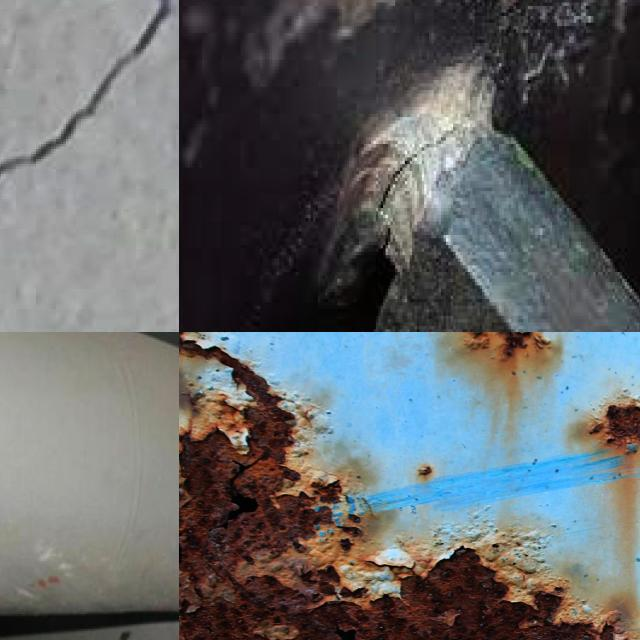Crack: (0, 0, 168, 174), (352, 63, 499, 252)
Pitting Corrosion: (179, 332, 640, 640), (457, 332, 552, 374), (589, 404, 640, 452)
